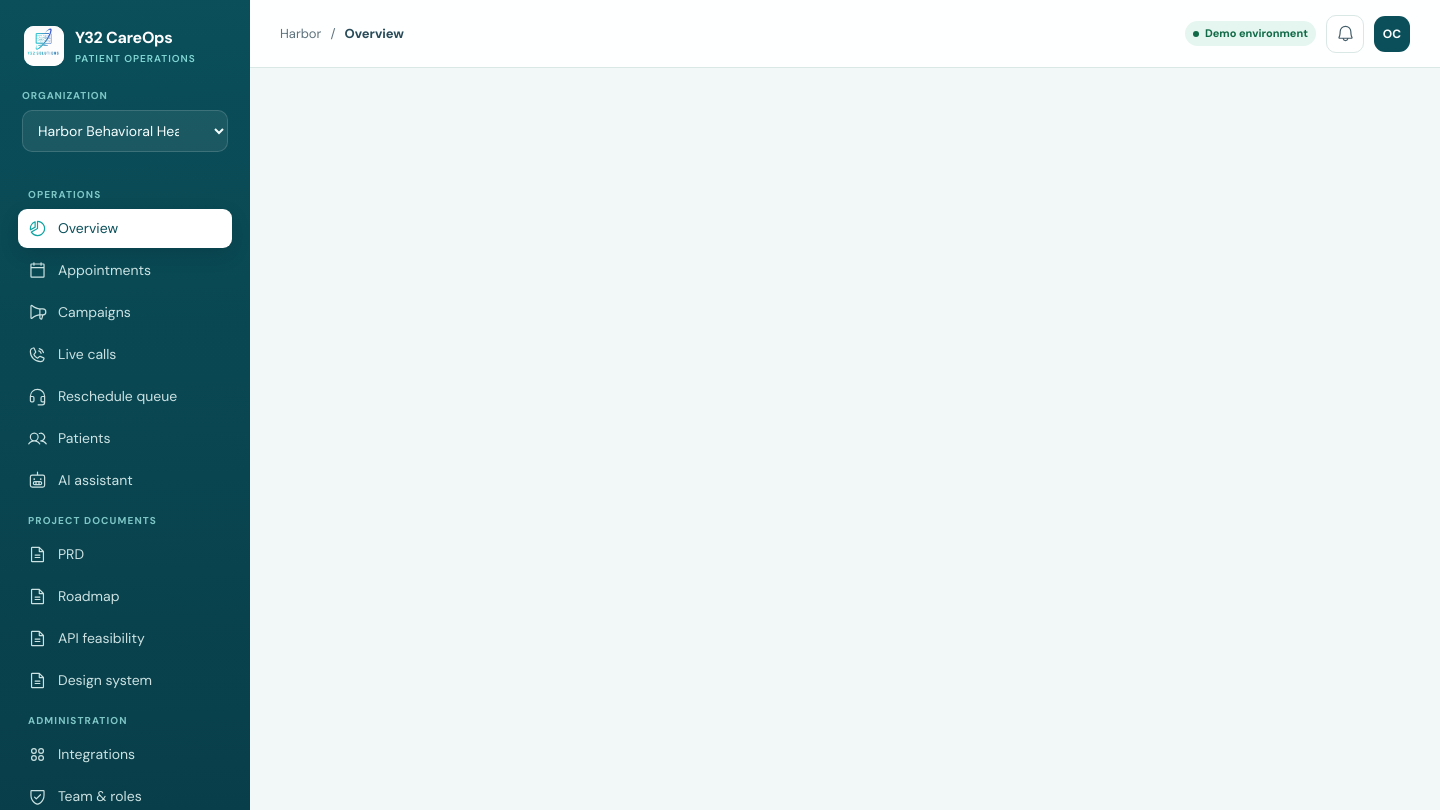
Test case: AppShell › explains the prototype notification state
The image size is (1440, 810).
Click the button named "Notifications".
click(1345, 34)  # box 1326,14 -> 1364,52
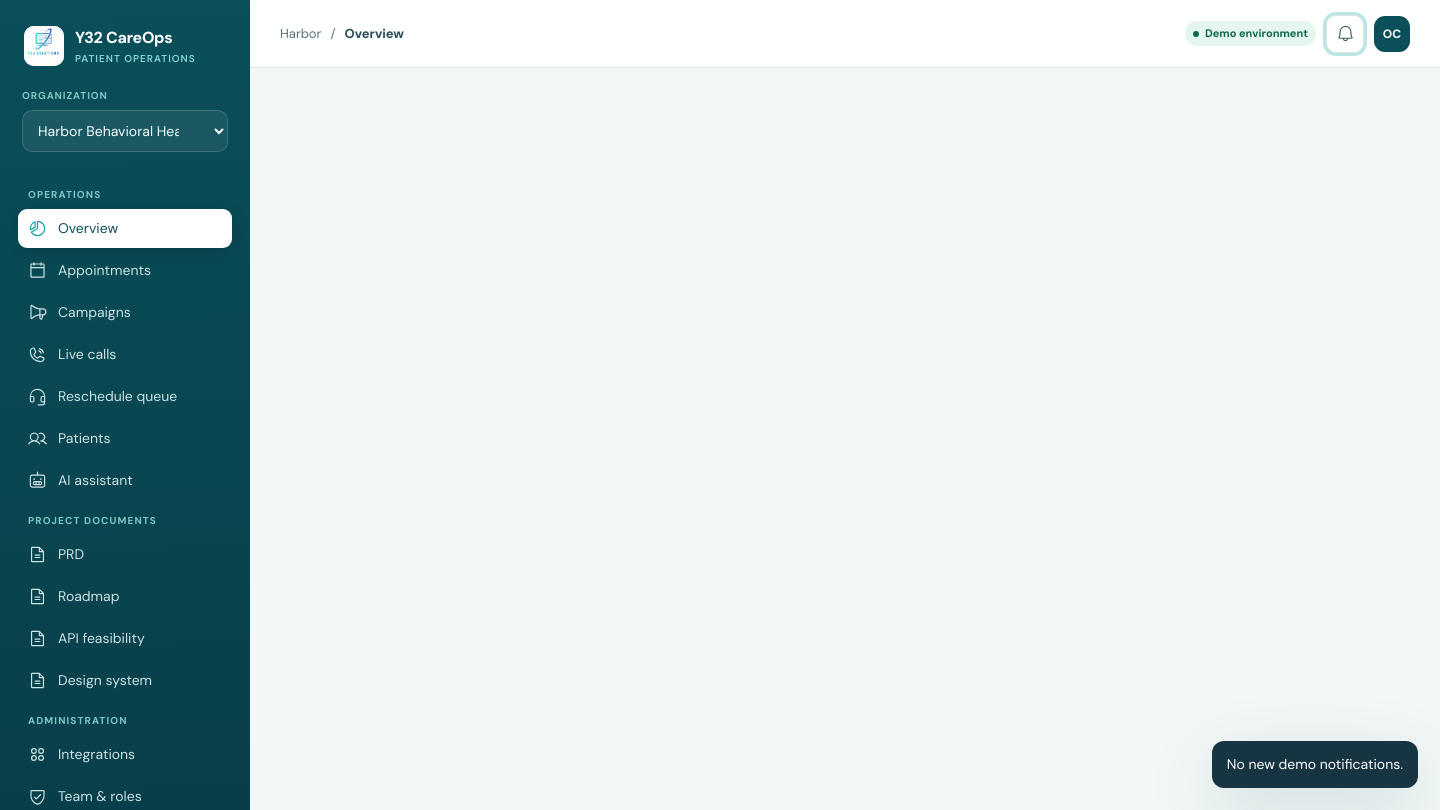
Check: the message reads "No new demo notifications.", box 1227,755 -> 1403,773
